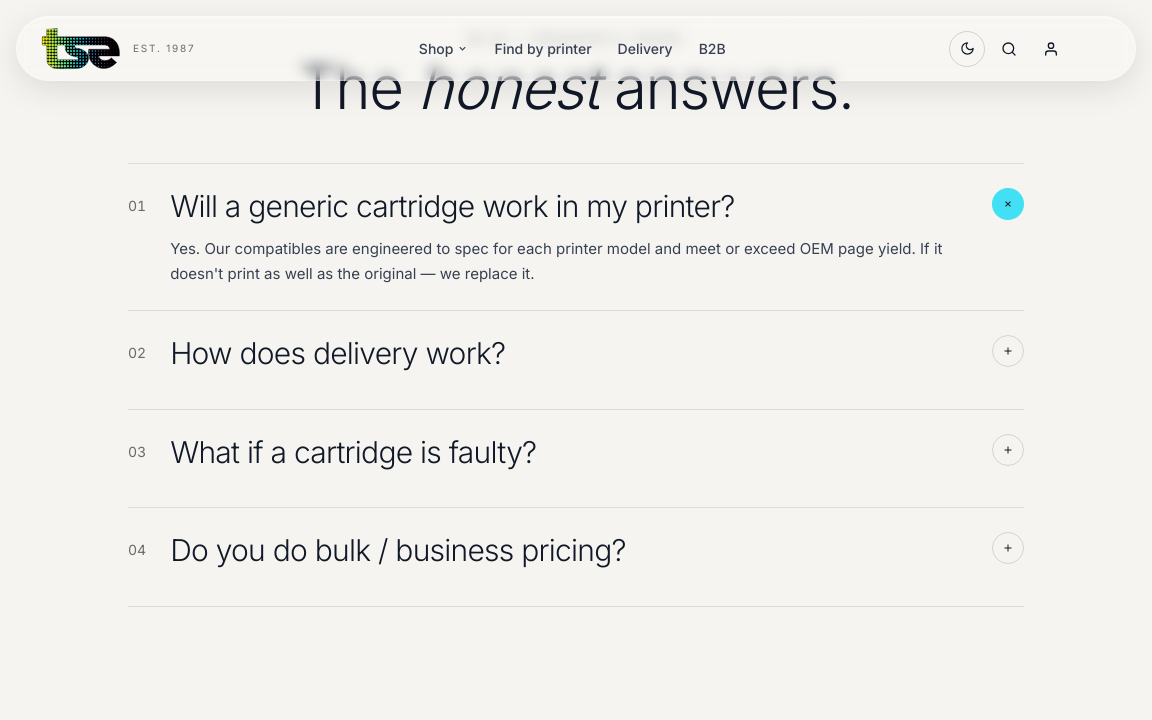
Test case: StorefrontClient — FAQ accordion › clicking a closed FAQ opens it
The image size is (1152, 720).
(page scrolled)
Step 1. Click the button "02 How does delivery work?" → (338, 353), box [128,311,1024,410]
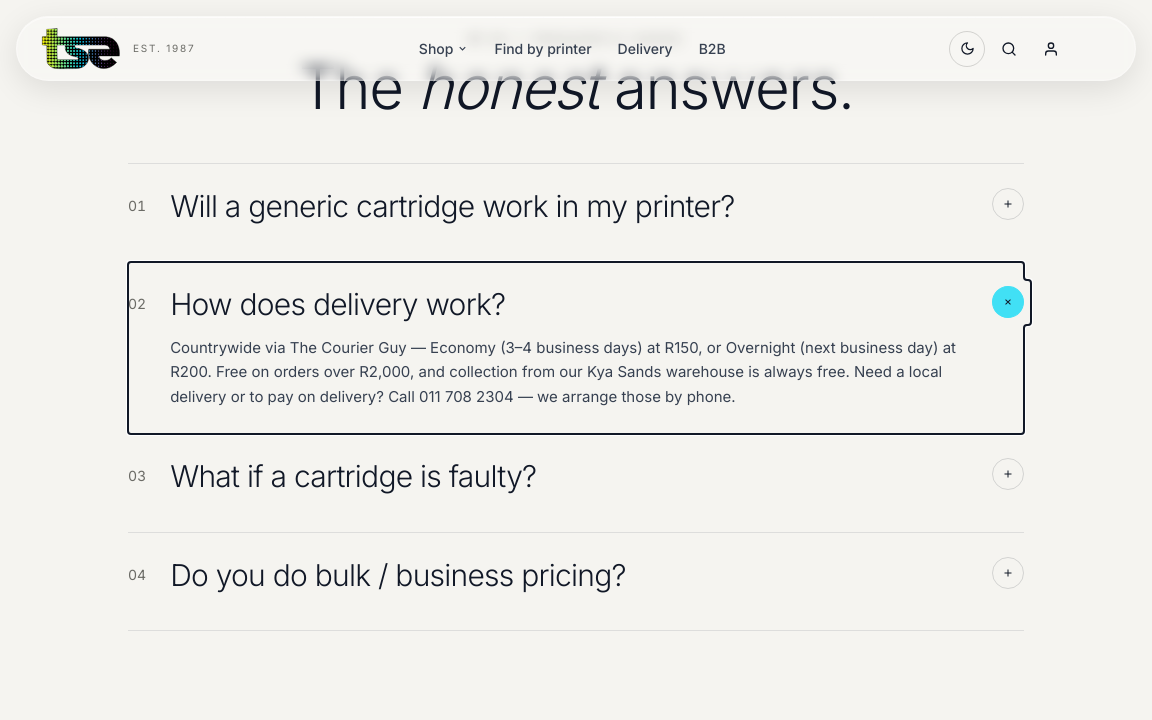
expect the button "How does delivery work" is expanded: met, box [128,262,1024,434]
